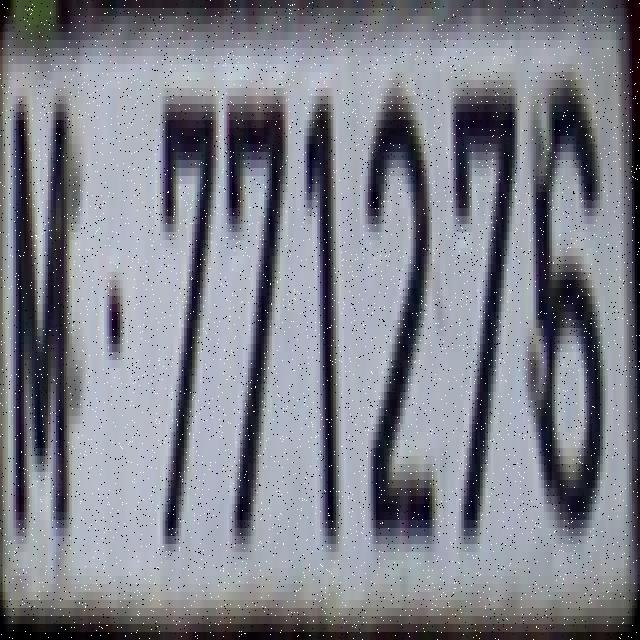licenseplate: (2, 18, 628, 620)
